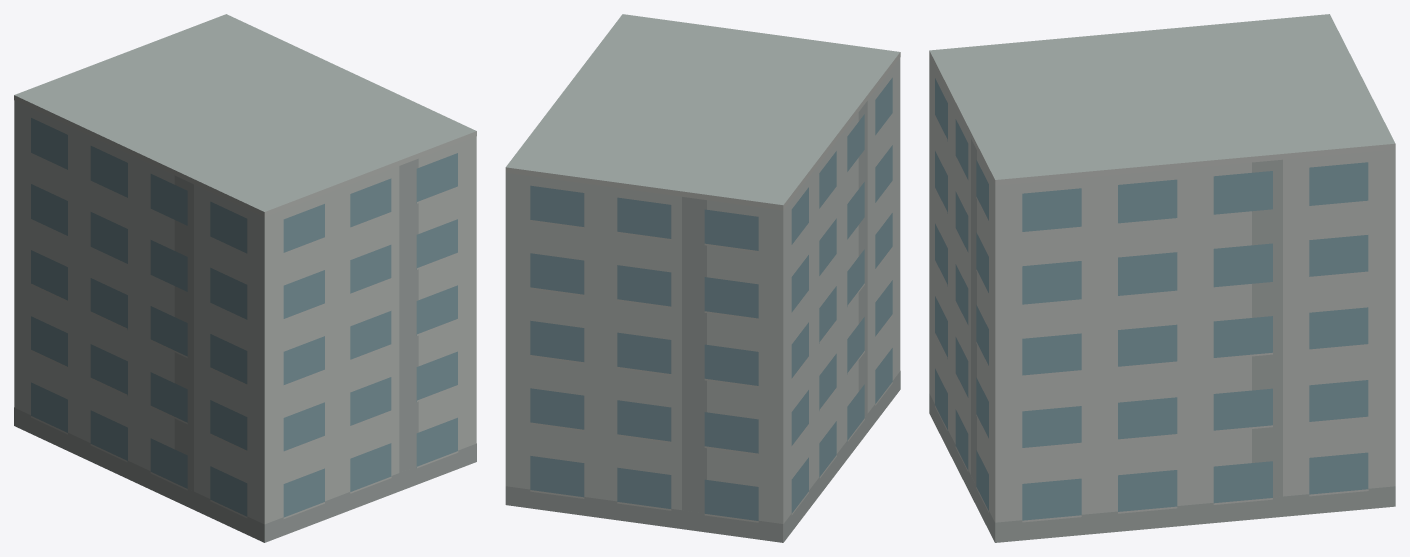
Rendered from residential-ef83713b-97cb-4721-8086-e2496d43d9c2.glb.
The picture shows the model from 3 angles, left to right: view 1: azimuth 30°, elevation 25°; view 2: azimuth 150°, elevation 25°; view 3: azimuth 270°, elevation 25°; orthographic projection. The views are drawn at different scales.
Parts seen in each view (by area): view 1: residential-ef83713b-97cb-4721-8086-e2496d43d9c2.tmp; view 2: residential-ef83713b-97cb-4721-8086-e2496d43d9c2.tmp; view 3: residential-ef83713b-97cb-4721-8086-e2496d43d9c2.tmp.
Boxes of the visible parts, <box> form: residential-ef83713b-97cb-4721-8086-e2496d43d9c2.tmp: <box>14,14,476,542</box>; residential-ef83713b-97cb-4721-8086-e2496d43d9c2.tmp: <box>505,14,900,542</box>; residential-ef83713b-97cb-4721-8086-e2496d43d9c2.tmp: <box>929,14,1395,542</box>.
Size of the model in its own units: 14.97 by 15.25 by 17.77.
